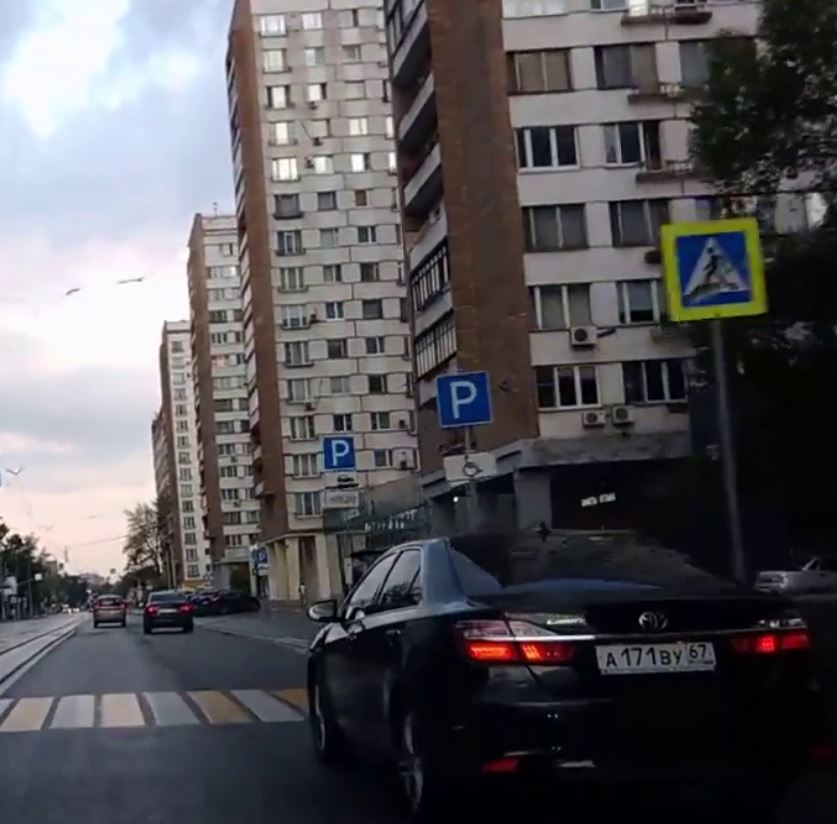Yaya Gecidi: (677, 233, 755, 301)
